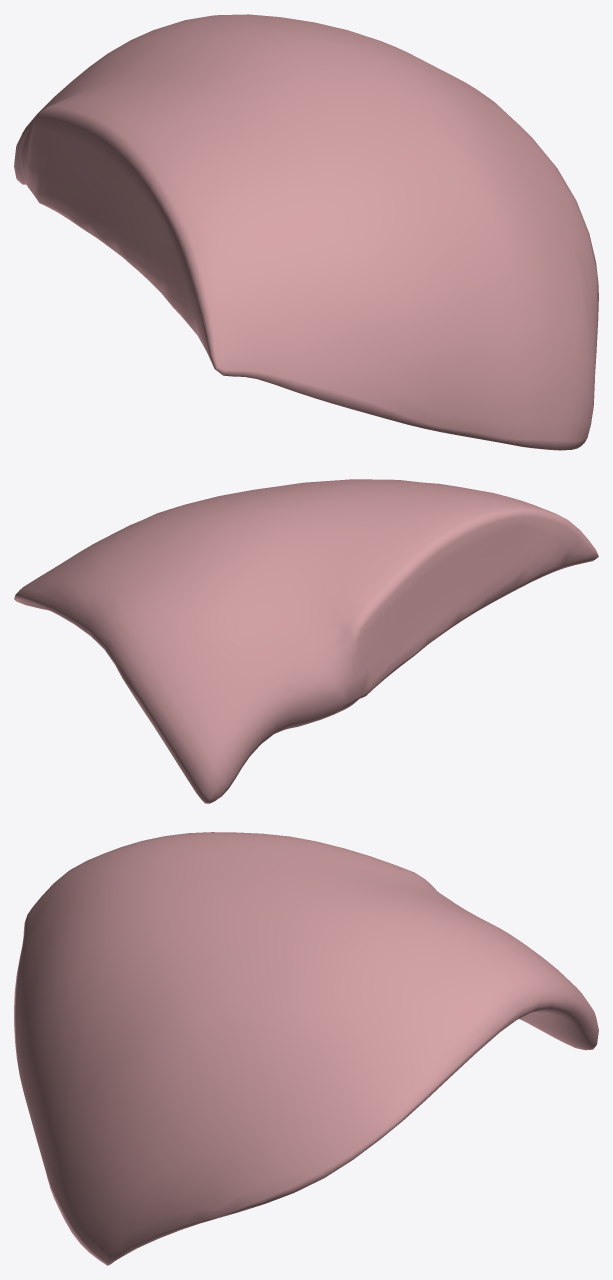
The picture shows the model from 3 angles, top to bottom: view 1: azimuth 30°, elevation 25°; view 2: azimuth 150°, elevation 25°; view 3: azimuth 270°, elevation 25°; orthographic projection. The views are drawn at different scales.
Parts seen in each view (by area): view 1: ZA_a1fe1741e2c2614f; view 2: ZA_a1fe1741e2c2614f; view 3: ZA_a1fe1741e2c2614f.
Boxes of the visible parts, <box> form: ZA_a1fe1741e2c2614f: <box>14,14,598,450</box>; ZA_a1fe1741e2c2614f: <box>14,479,598,803</box>; ZA_a1fe1741e2c2614f: <box>14,832,598,1265</box>.
Bounding box in the file's own units: 0.0896 × 0.0561 × 0.1033.
